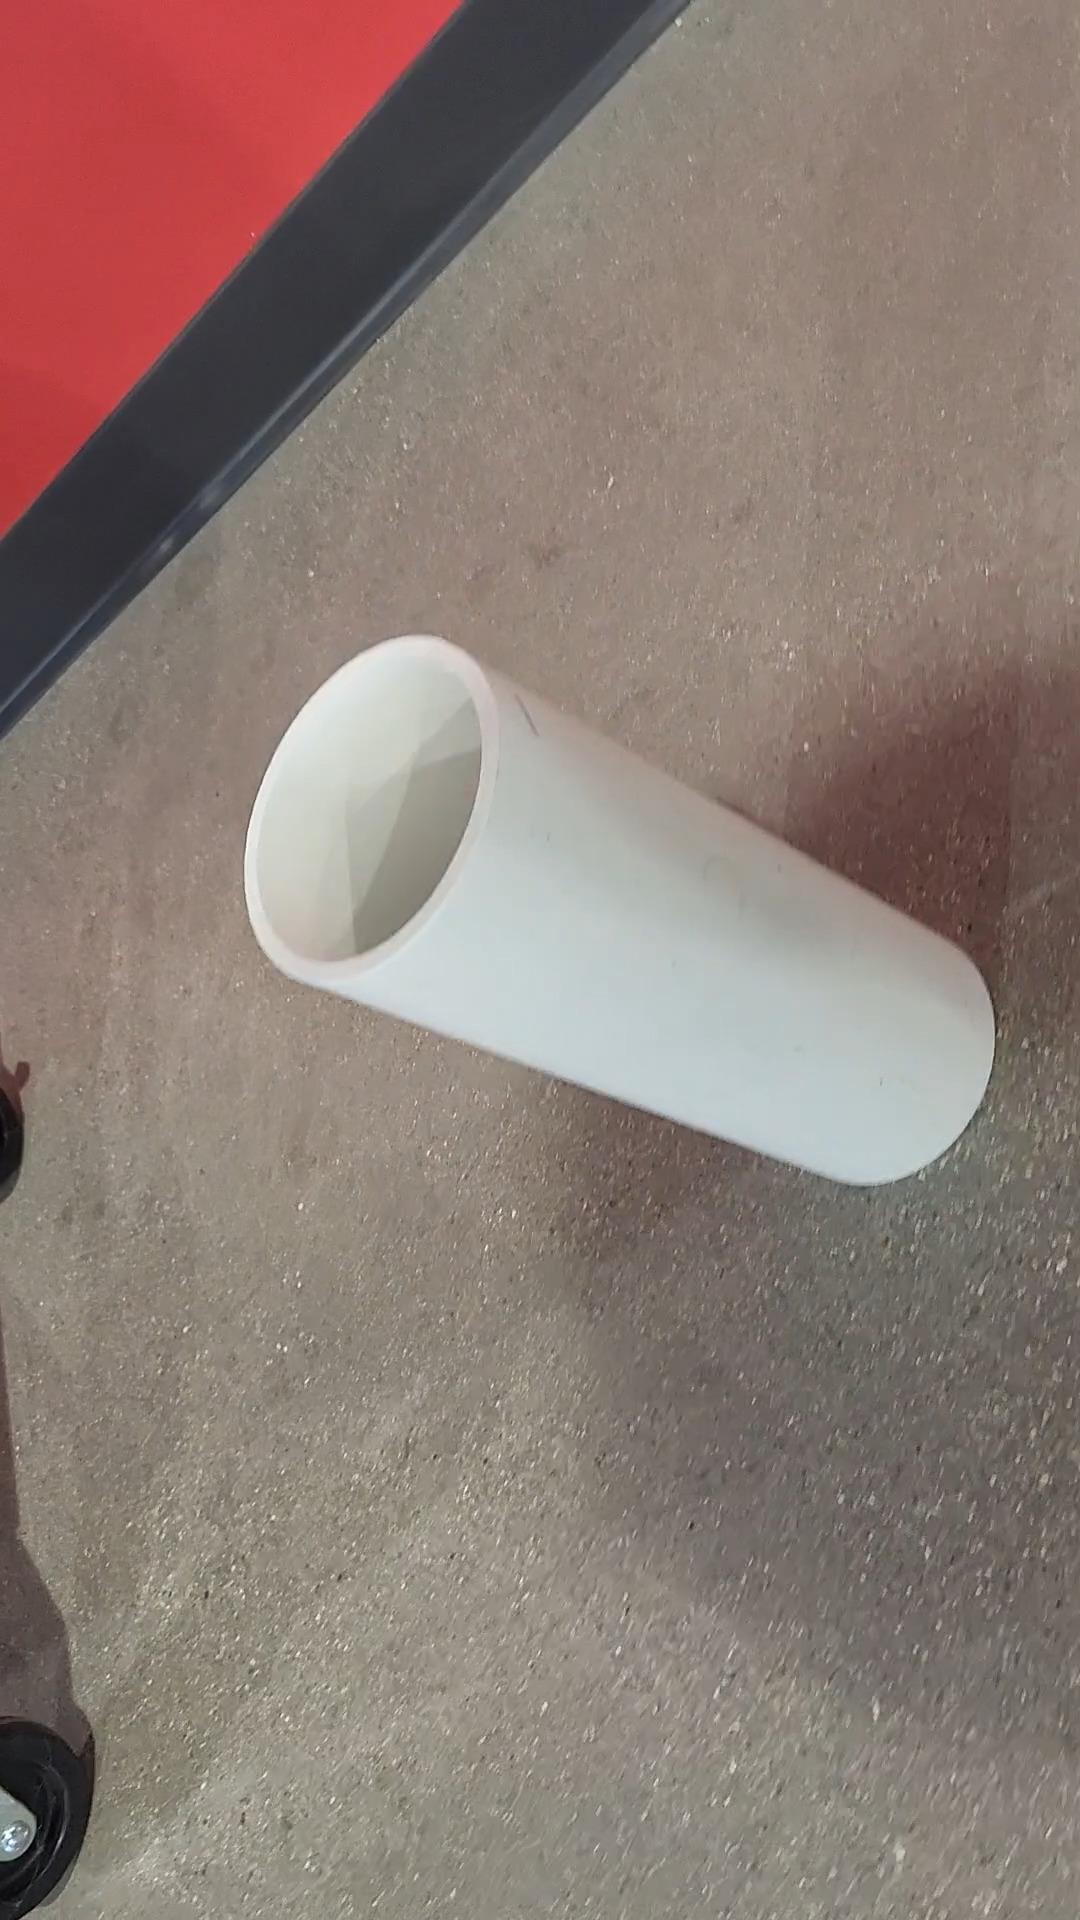coral: (248, 636, 997, 1188)
